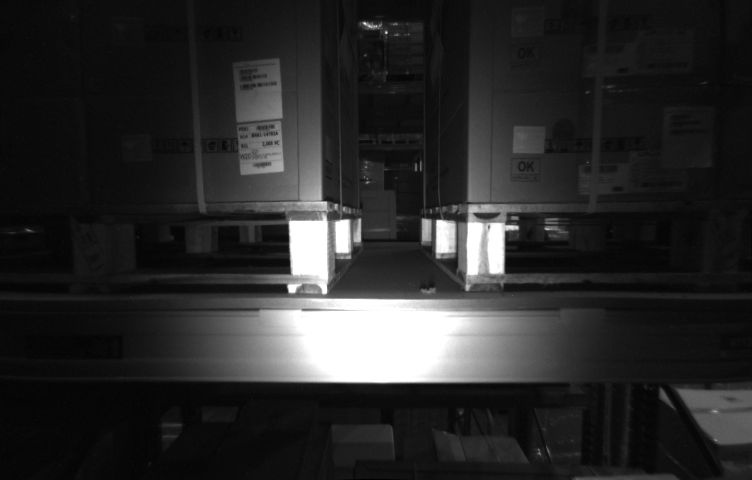True Barcode: (239, 124, 283, 176)
